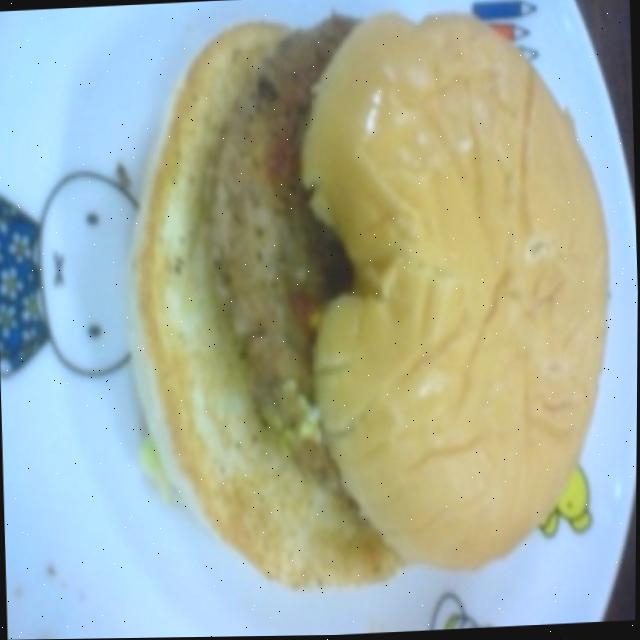汉堡快餐: (109, 0, 634, 574)
